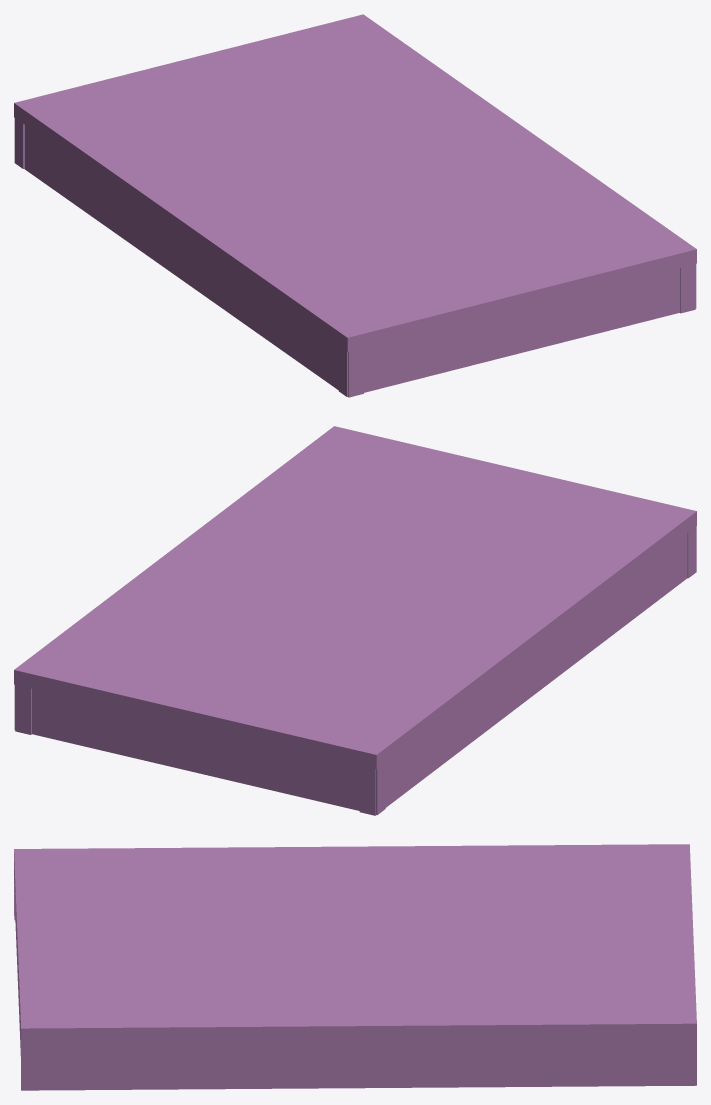
Rendered from CajaJuguetesTapa2.obj.
The picture shows the model from 3 angles, top to bottom: view 1: azimuth 30°, elevation 25°; view 2: azimuth 150°, elevation 25°; view 3: azimuth 270°, elevation 25°; orthographic projection. The views are drawn at different scales.
Visible parts, largest first — view 1: CajaJuguetesTapa:pasted__group5_pasted__group4_pasted__pasted__g; view 2: CajaJuguetesTapa:pasted__group5_pasted__group4_pasted__pasted__g; view 3: CajaJuguetesTapa:pasted__group5_pasted__group4_pasted__pasted__g.
Boxes of the visible parts, box(x1,y1,x2,y2) form: CajaJuguetesTapa:pasted__group5_pasted__group4_pasted__pasted__g: box(14, 14, 696, 397); CajaJuguetesTapa:pasted__group5_pasted__group4_pasted__pasted__g: box(14, 426, 696, 815); CajaJuguetesTapa:pasted__group5_pasted__group4_pasted__pasted__g: box(14, 844, 696, 1090).
Size of the model in its own units: 0.4868 by 0.0772 by 0.7622.
1 material, 1 textured.
